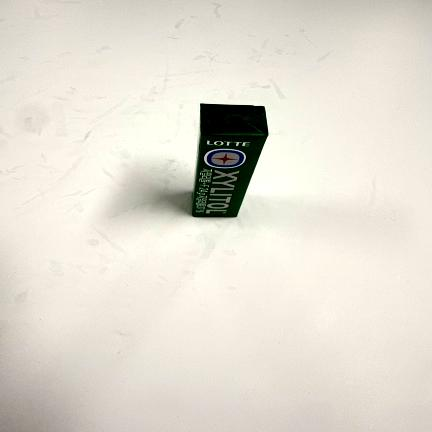gum_green: (193, 104, 268, 217)
